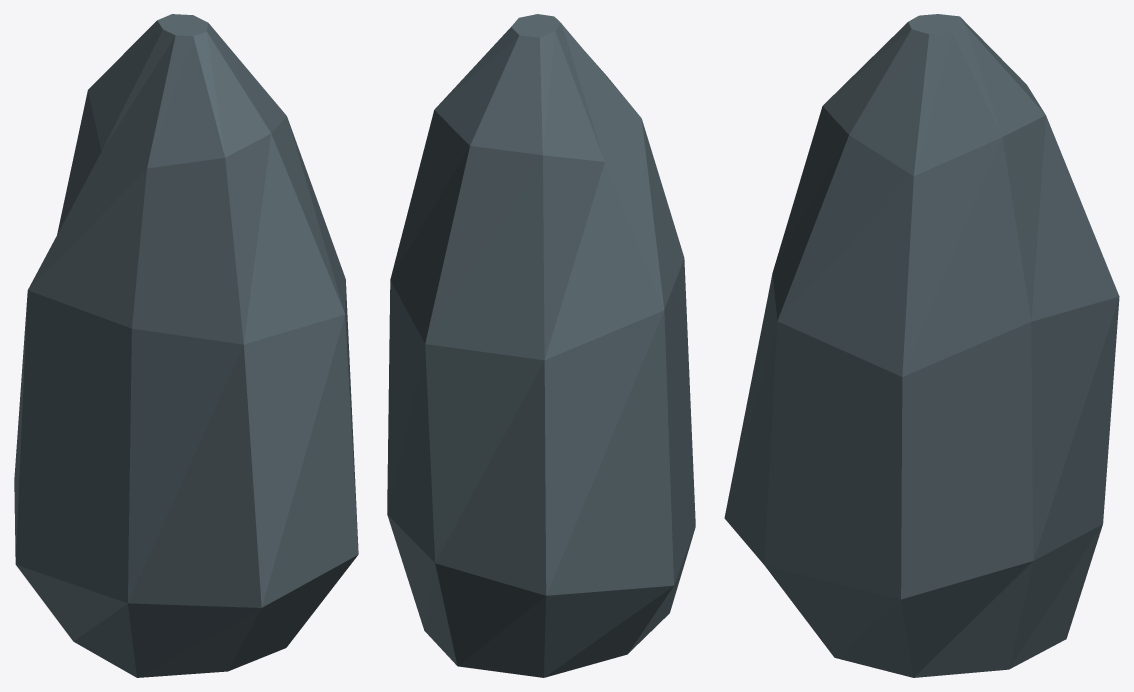
The model's file is cave_pillar.glb.
The picture shows the model from 3 angles, left to right: view 1: azimuth 30°, elevation 25°; view 2: azimuth 150°, elevation 25°; view 3: azimuth 270°, elevation 25°; orthographic projection.
Visible parts, largest first — view 1: cave_pillar; view 2: cave_pillar; view 3: cave_pillar.
Part boxes in pixels (x1,y1,x2,y2): cave_pillar: (14, 14, 358, 677); cave_pillar: (387, 14, 695, 677); cave_pillar: (724, 14, 1119, 677).
Bounding box in the file's own units: 3.19 × 6 × 3.53.
